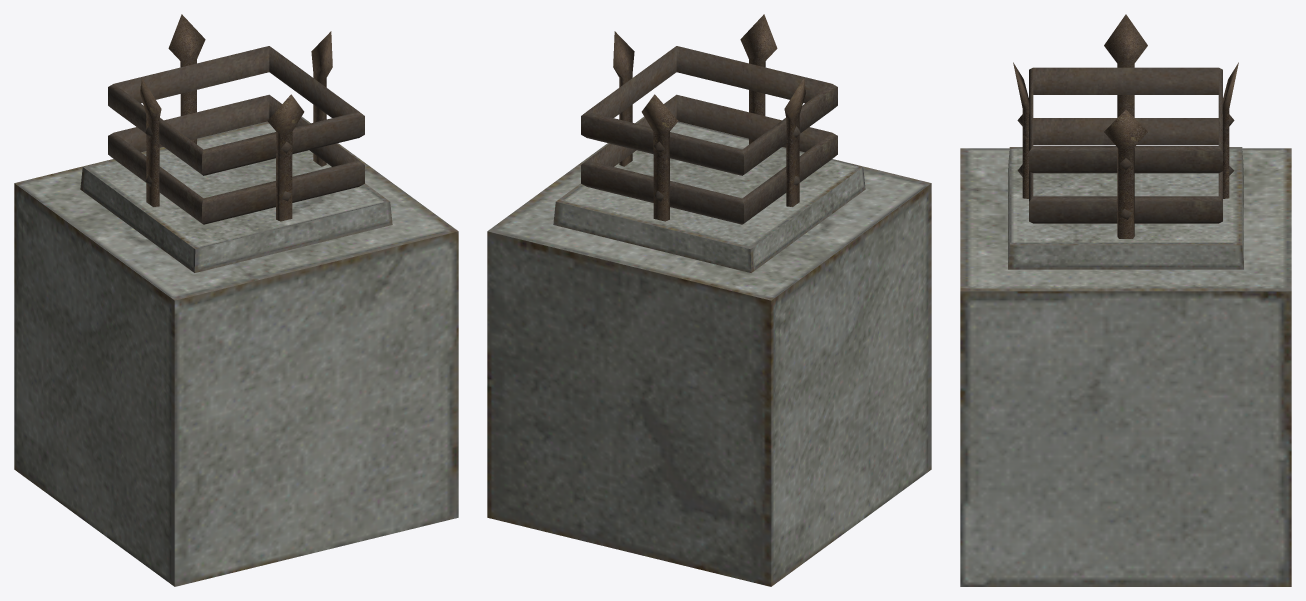
Rendered from plinth_fire_lrg.fbx.
3 views of the same model, side by side, from view 1: azimuth 30°, elevation 25°; view 2: azimuth 150°, elevation 25°; view 3: azimuth 270°, elevation 25° (orthographic). The views are drawn at different scales.
Visible parts, largest first — view 1: plinth_fire_lrg; view 2: plinth_fire_lrg; view 3: plinth_fire_lrg.
Boxes of the visible parts, x1,y1,x2,y2 form: plinth_fire_lrg: [14, 14, 458, 586]; plinth_fire_lrg: [487, 14, 931, 586]; plinth_fire_lrg: [960, 14, 1291, 586].
Size of the model in its own units: 40.15 by 59.4 by 39.31.
